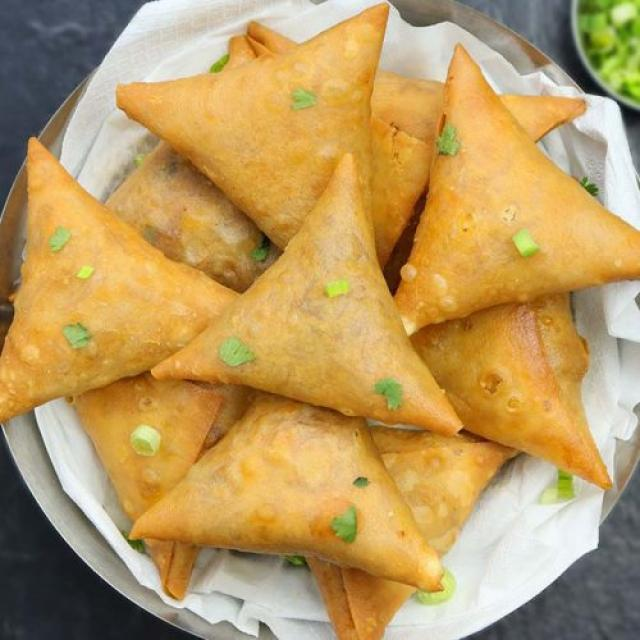SAMOSA: (151, 152, 461, 434), (401, 46, 639, 328), (0, 140, 238, 420), (118, 8, 388, 248), (133, 396, 442, 589), (411, 294, 608, 486), (74, 375, 246, 520), (109, 143, 279, 289), (370, 428, 517, 557), (371, 72, 444, 268), (307, 559, 415, 639), (498, 95, 585, 141)
